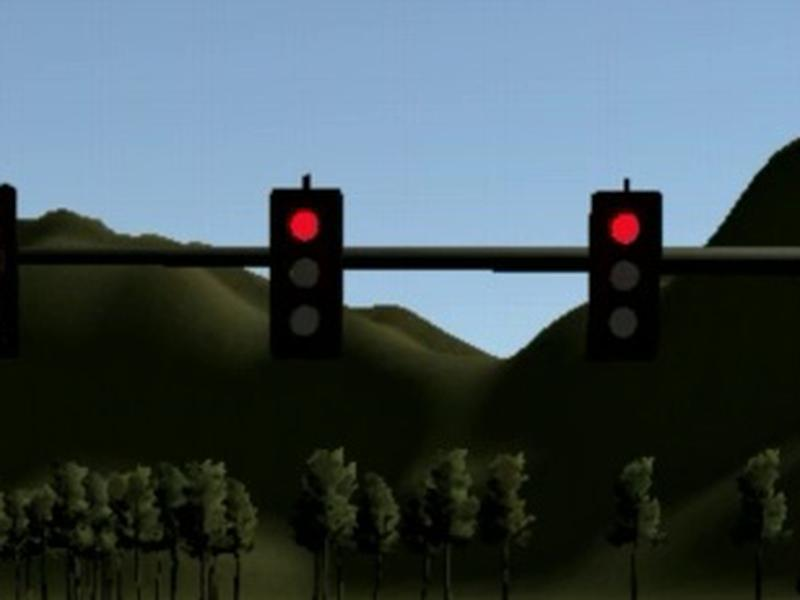Red: (589, 192, 663, 362), (270, 189, 344, 357)
